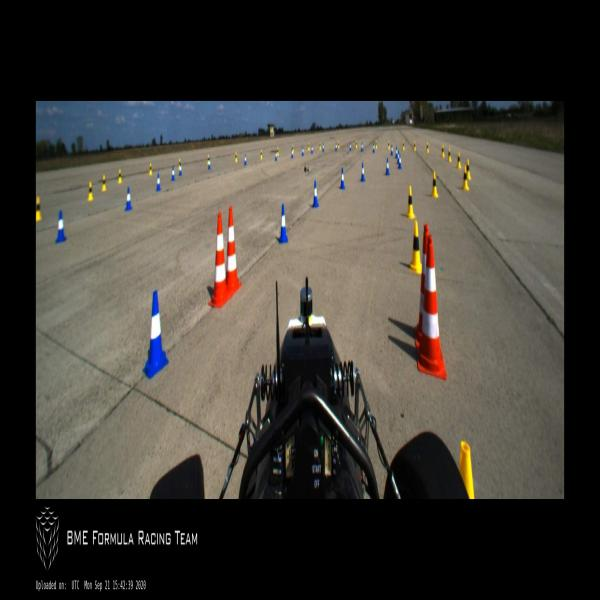blue_cone: (142, 291, 169, 378), (278, 204, 288, 244), (56, 211, 66, 243), (312, 181, 319, 207), (125, 186, 132, 210), (360, 162, 366, 181), (340, 168, 345, 189), (156, 174, 161, 190), (386, 158, 390, 175), (398, 154, 402, 169), (171, 166, 175, 180), (179, 163, 182, 176), (397, 150, 400, 163), (244, 154, 247, 165), (395, 146, 397, 159), (372, 144, 375, 152), (391, 144, 393, 155), (275, 151, 277, 161), (291, 148, 293, 158), (302, 146, 304, 156), (349, 142, 351, 151), (311, 145, 313, 154), (361, 143, 363, 151), (335, 143, 337, 151), (209, 158, 210, 169), (323, 144, 324, 152)
large_orange_cone: (416, 234, 446, 380), (208, 212, 229, 309), (414, 225, 430, 346), (224, 206, 242, 296)
yellow_cone: (459, 441, 475, 499), (409, 220, 421, 272), (407, 186, 416, 218), (462, 166, 470, 190), (431, 171, 438, 198), (88, 181, 94, 200), (36, 198, 41, 220), (466, 159, 471, 180), (102, 174, 107, 192), (457, 152, 462, 169), (447, 147, 452, 162), (118, 170, 122, 183), (441, 144, 445, 157), (413, 140, 416, 152), (149, 164, 152, 175), (426, 142, 429, 153), (235, 152, 238, 162), (402, 140, 405, 150), (207, 154, 209, 166), (387, 141, 390, 149), (375, 140, 378, 148), (355, 140, 358, 148), (276, 146, 278, 157), (260, 150, 262, 159), (319, 141, 321, 150), (308, 143, 310, 151), (179, 159, 180, 170), (338, 140, 339, 148)
